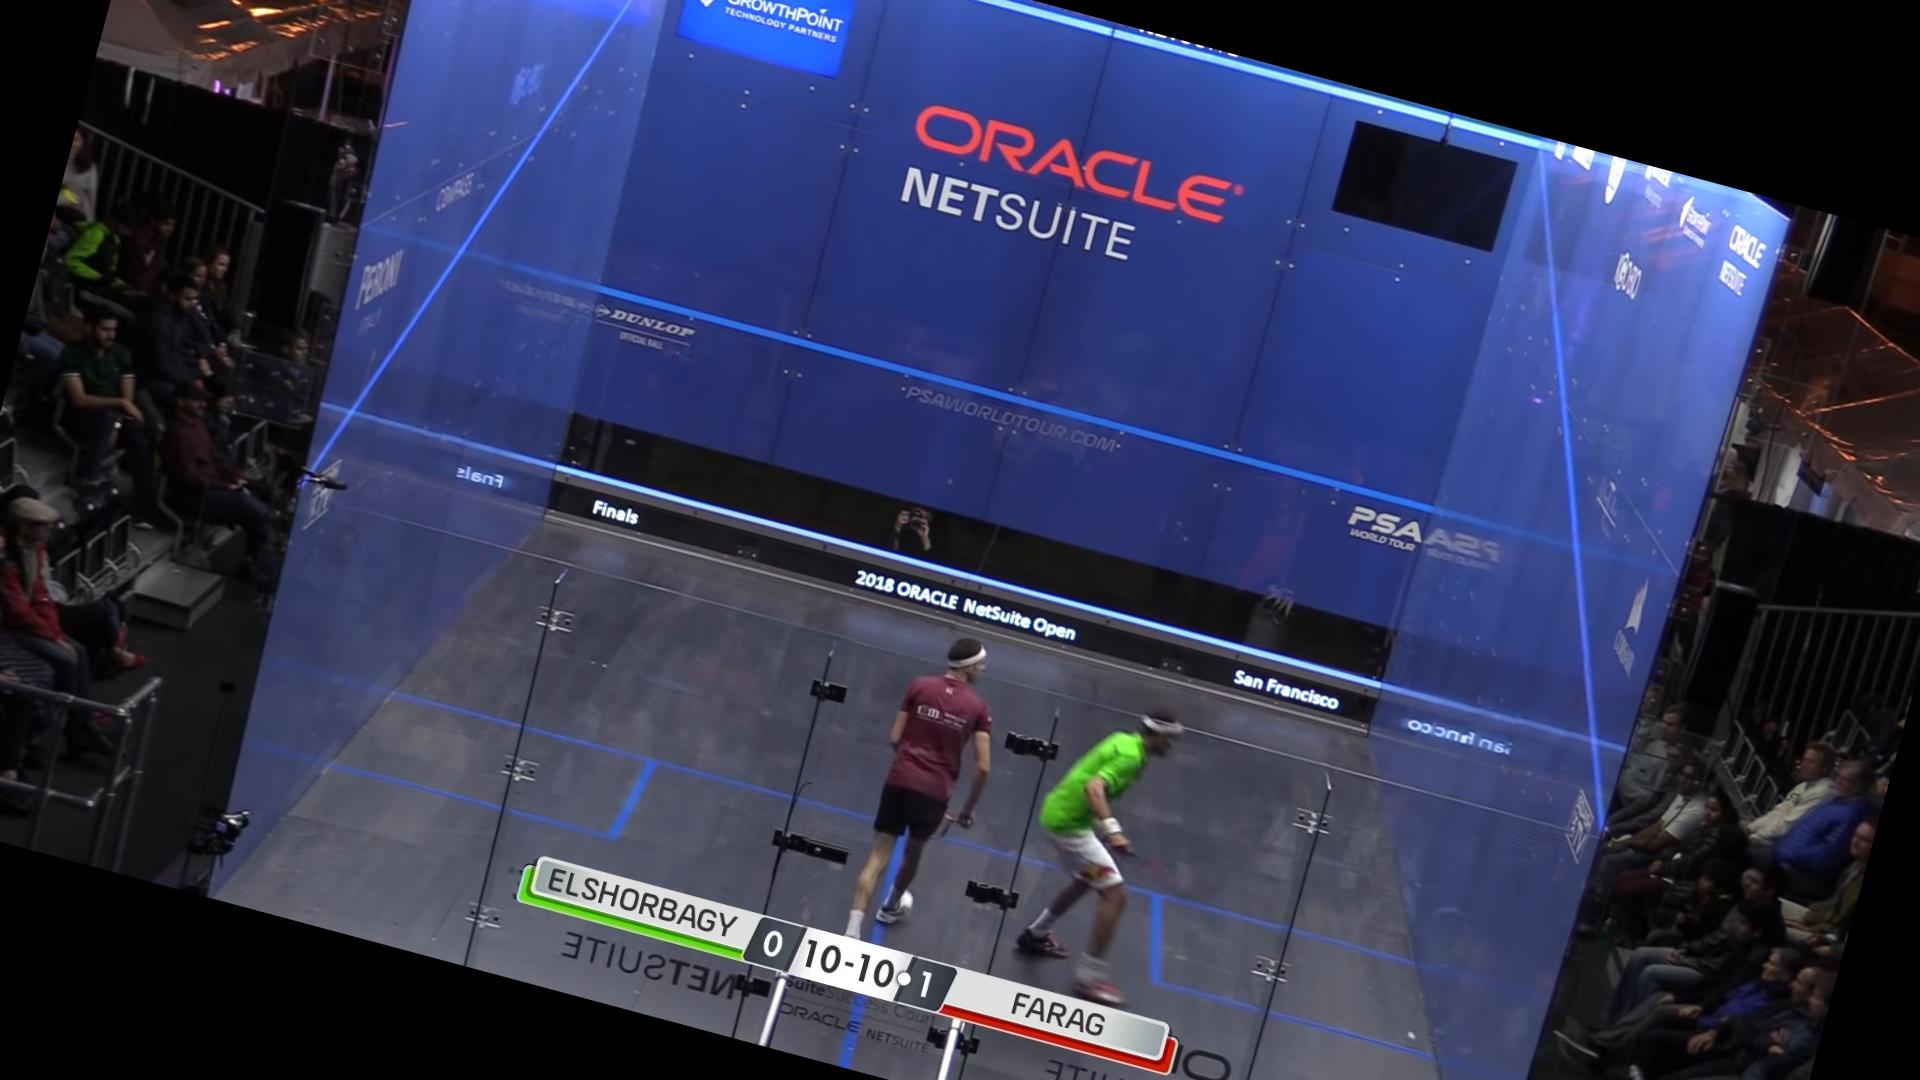Squash-Ball: (1403, 1023, 1422, 1047)
